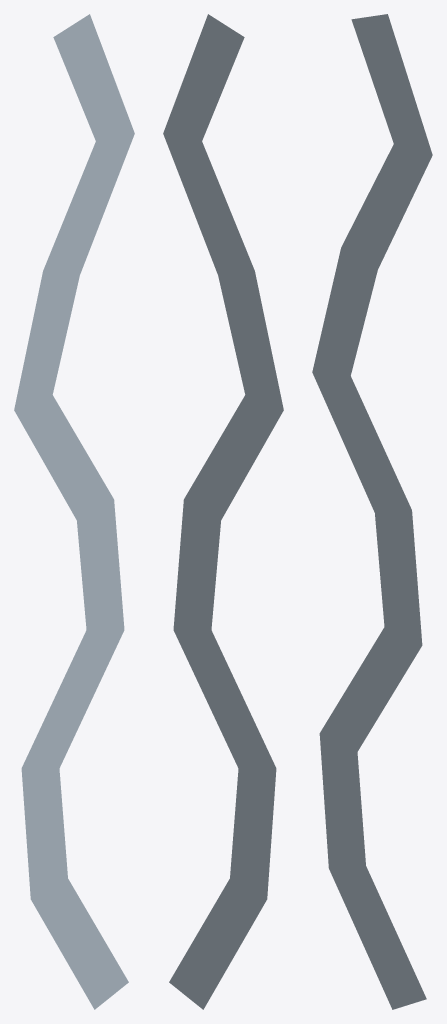
The model's file is 2085_ThunderWave_1Round_CosmeticColumn_29_2.fbx.
The picture shows the model from 3 angles, left to right: view 1: azimuth 30°, elevation 25°; view 2: azimuth 150°, elevation 25°; view 3: azimuth 330°, elevation 25°; orthographic projection.
Parts seen in each view (by area): view 1: PART_CosmeticColumn_29_2; view 2: PART_CosmeticColumn_29_2; view 3: PART_CosmeticColumn_29_2.
Boxes of the visible parts, x1,y1,x2,y2 form: PART_CosmeticColumn_29_2: [14, 14, 134, 1009]; PART_CosmeticColumn_29_2: [163, 14, 283, 1009]; PART_CosmeticColumn_29_2: [312, 14, 432, 1009].
Size of the model in its own units: 15.47 by 122 by 1.99e-05.
